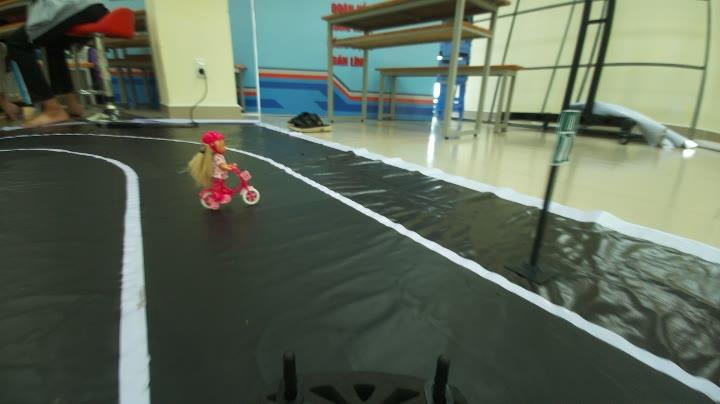highway_entry: (546, 105, 584, 170)
pedestrian: (170, 132, 267, 212)
